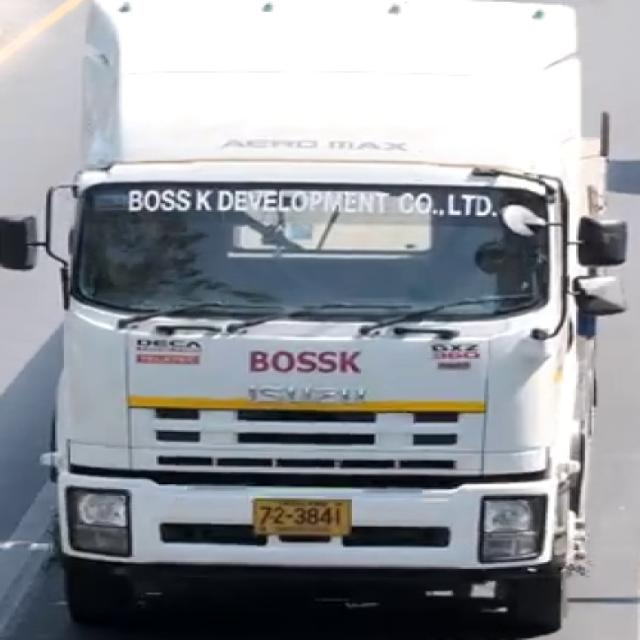plate: (251, 498, 355, 536)
